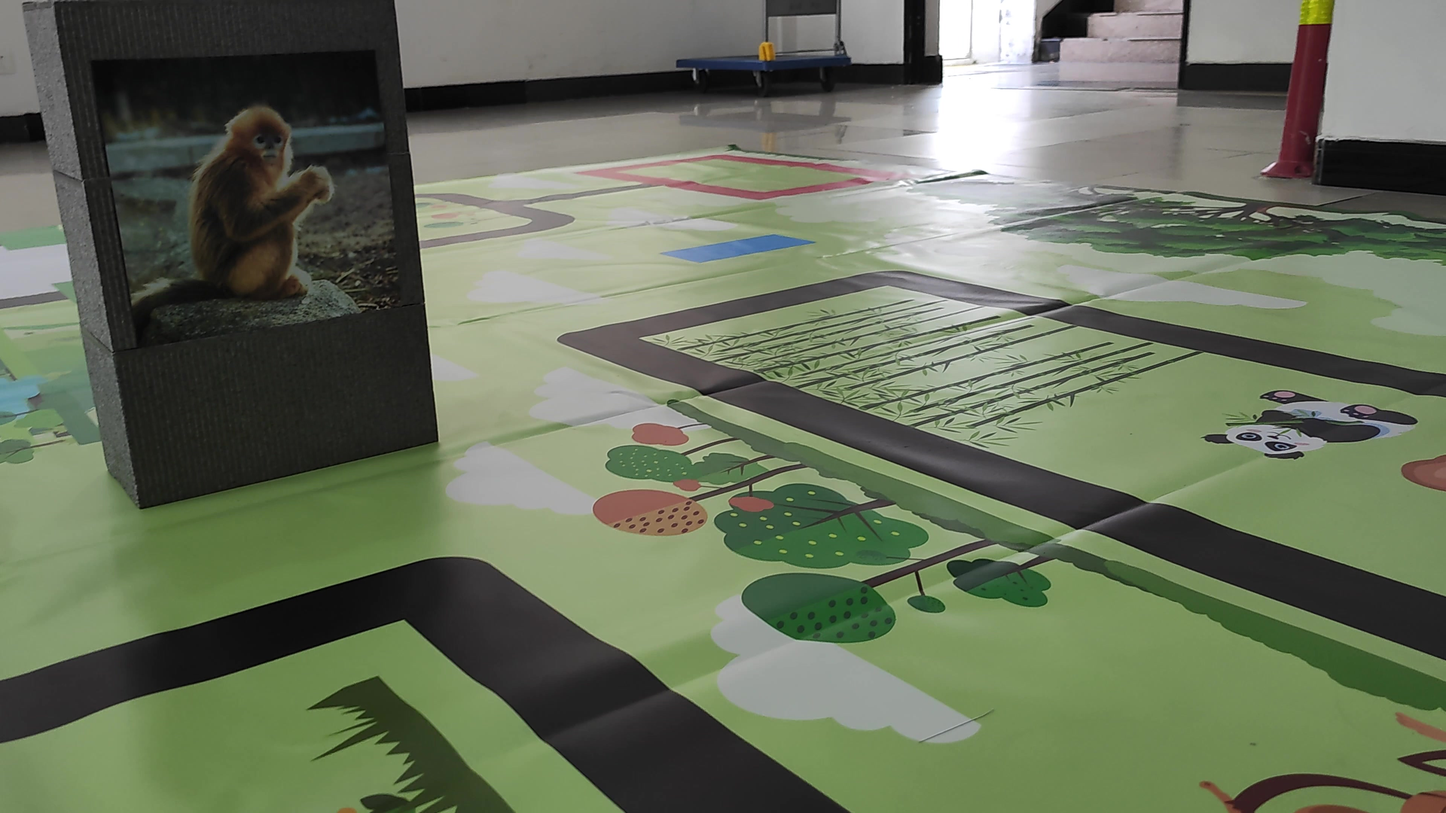monkey: (127, 78, 372, 340)
